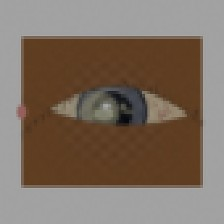corneal_ulcer: (68, 87, 132, 138)
